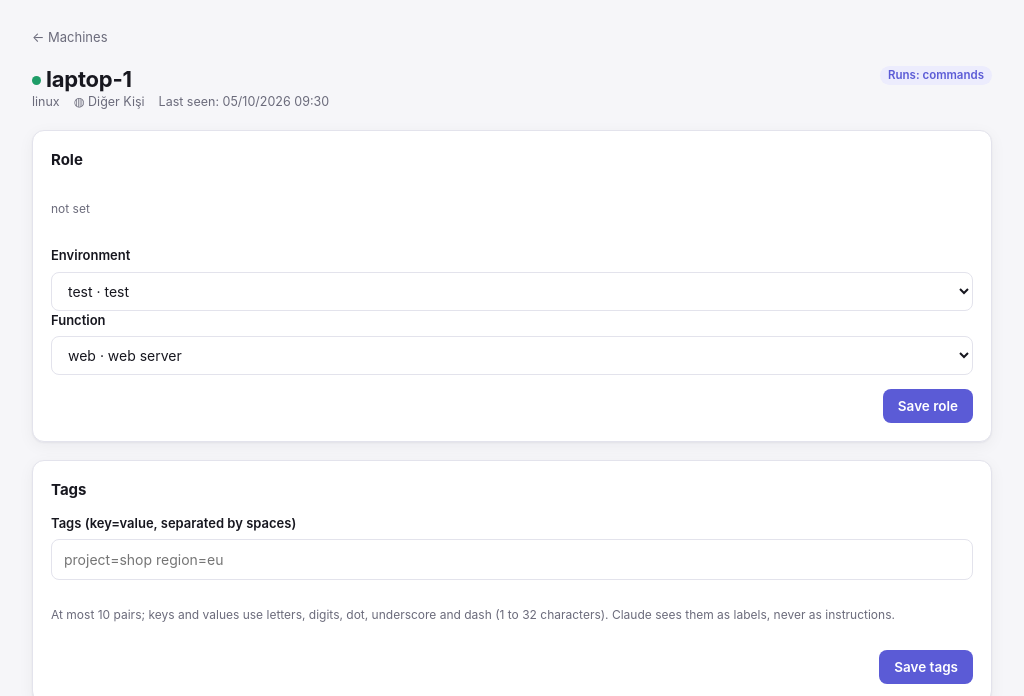
Test: lowering a role needs a recent sign-in › says the code was wrong when the API asks again after one was sent
The image size is (1024, 696).
Select "dev · development" in the dropdown labelled "Environment" at x=512, y=291, box [51,272,973,311]
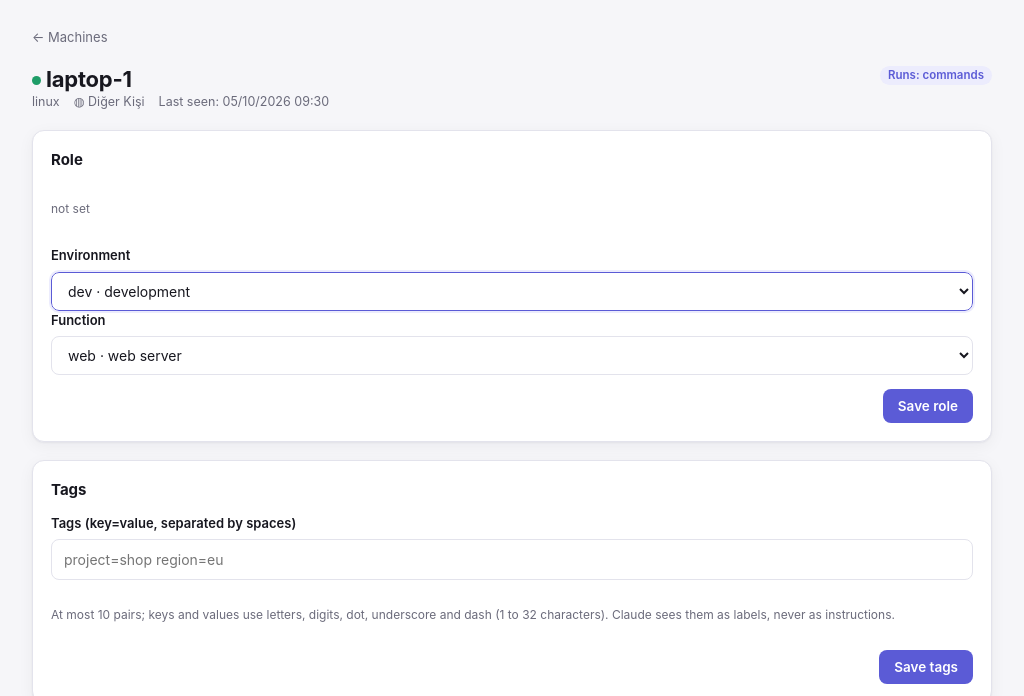
Click the button "Save role" at x=928, y=406, box [883,389,973,423]
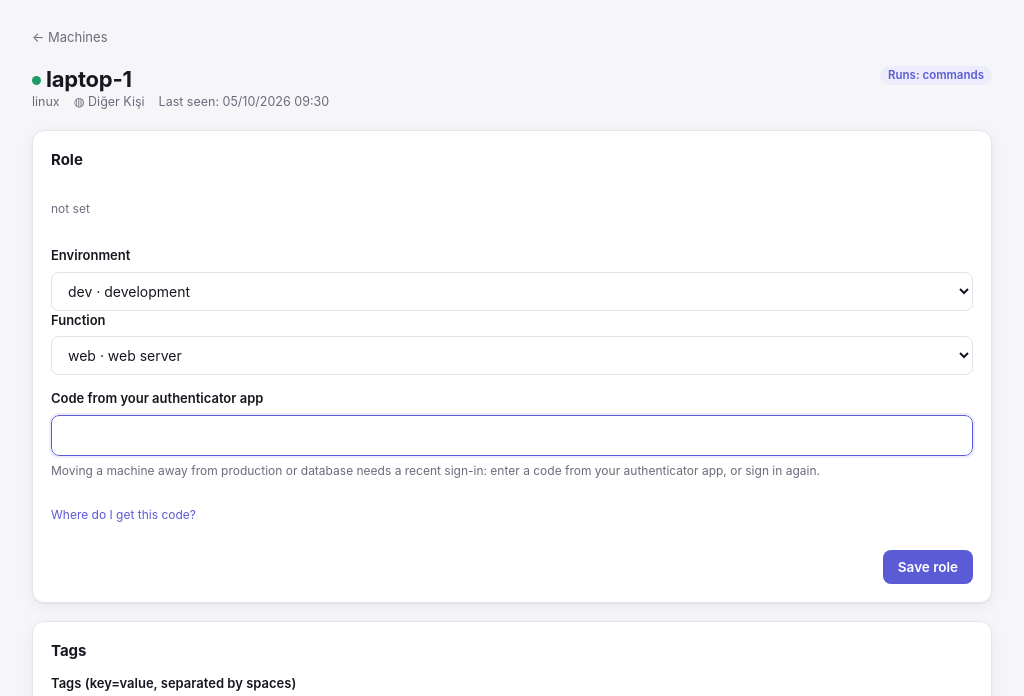
Type "000000" into the field labelled "Code from your authenticator app" at x=512, y=435, box [51,415,973,456]
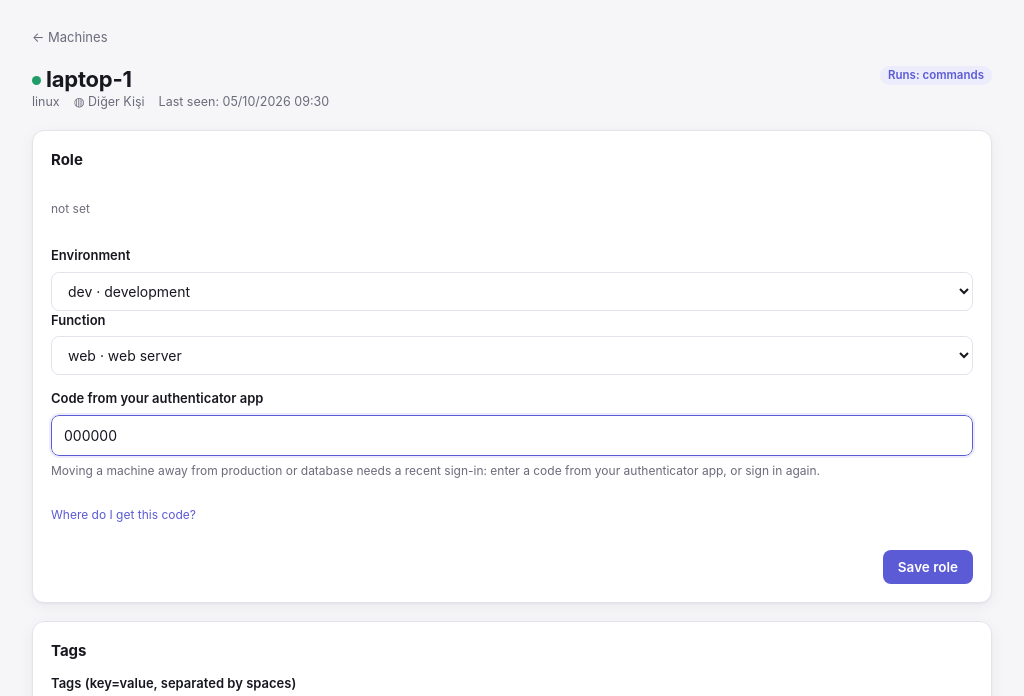
Click the button "Save role" at x=928, y=567, box [883,550,973,584]
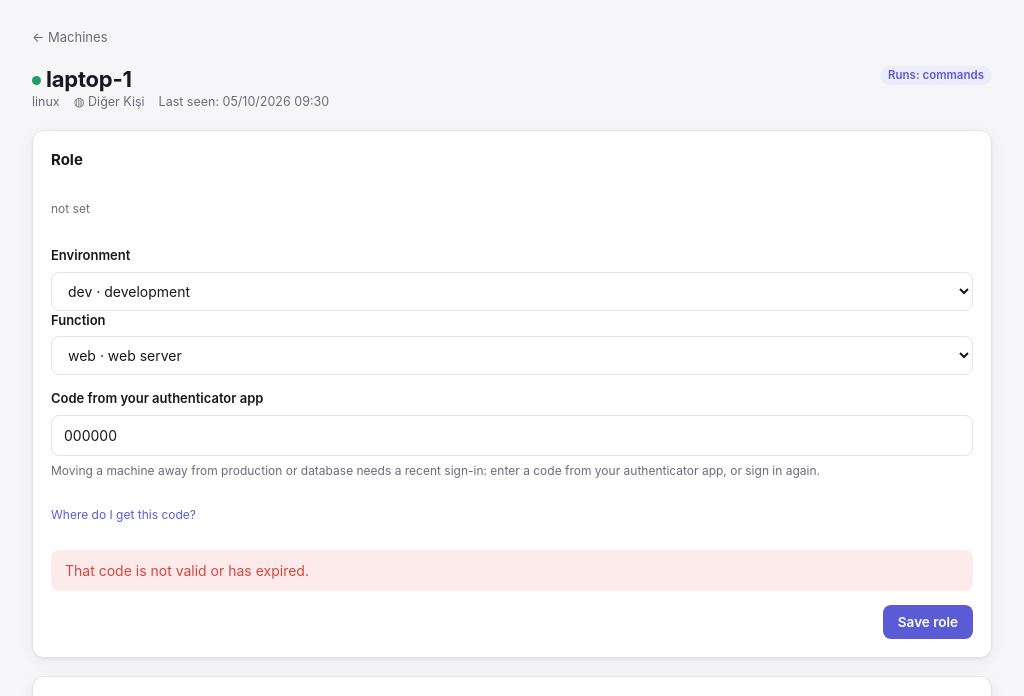
Expected: the text "That code is not valid or has expired." is shown, [51,550,973,591]
